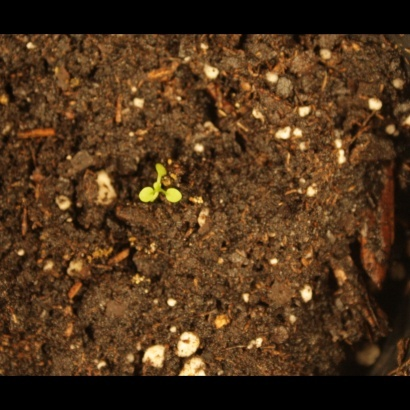leaf: (161, 185, 188, 208), (148, 156, 171, 179), (132, 183, 155, 206), (149, 176, 172, 199)
